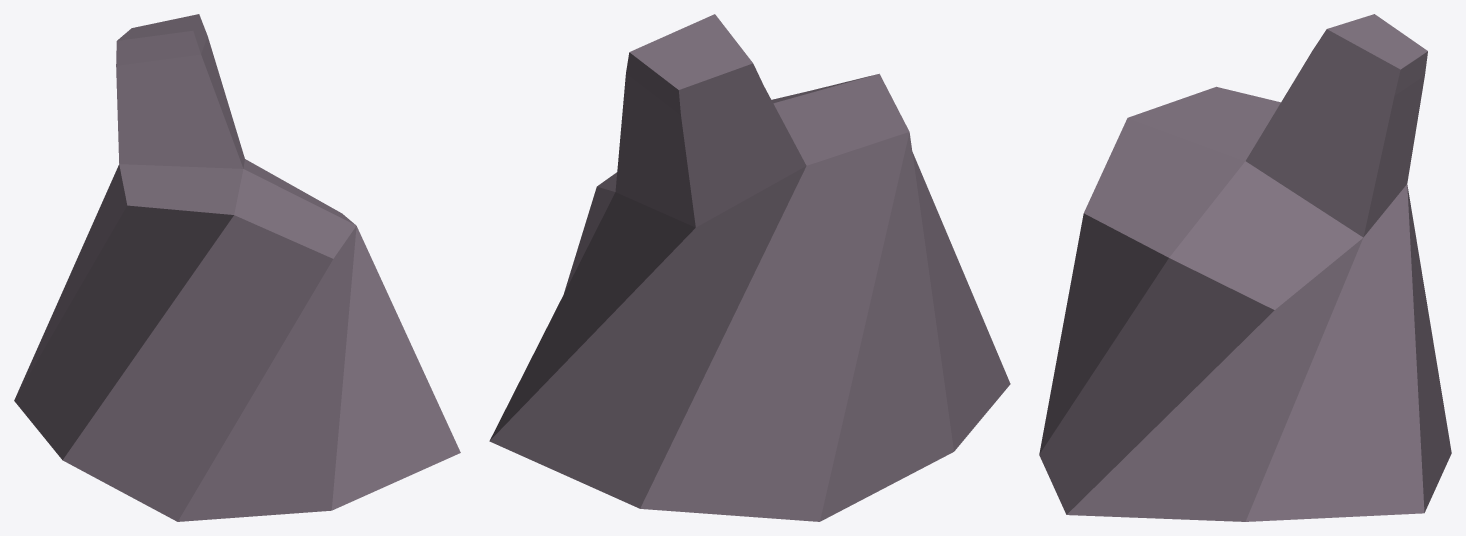
The model's file is Rock_v05.fbx.
3 views of the same model, side by side, from view 1: azimuth 30°, elevation 25°; view 2: azimuth 150°, elevation 25°; view 3: azimuth 270°, elevation 25° (orthographic). The views are drawn at different scales.
Parts seen in each view (by area): view 1: Rock_v05; view 2: Rock_v05; view 3: Rock_v05.
Part boxes in pixels (bbox=[...]): Rock_v05: bbox=[14, 14, 460, 521]; Rock_v05: bbox=[489, 14, 1010, 521]; Rock_v05: bbox=[1039, 14, 1451, 521].
Size of the model in its own units: 32.26 by 33.98 by 30.1.
Materials: 1 (1 with a texture image).
